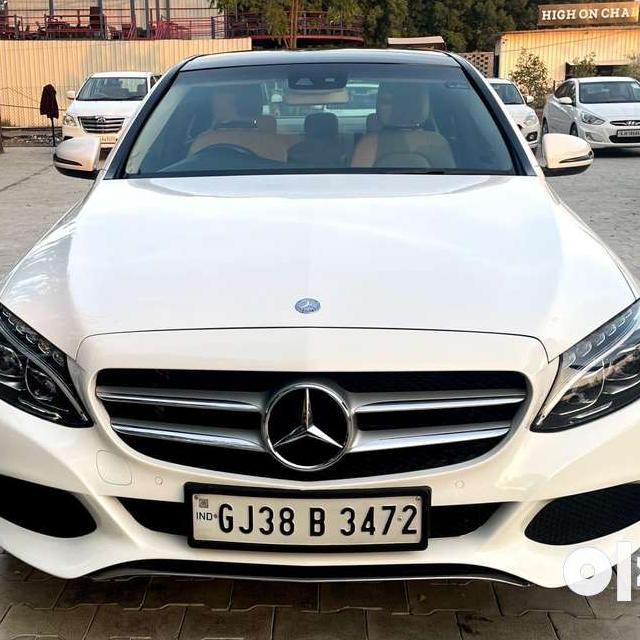Indian_Number_Plate: (187, 486, 429, 545)
